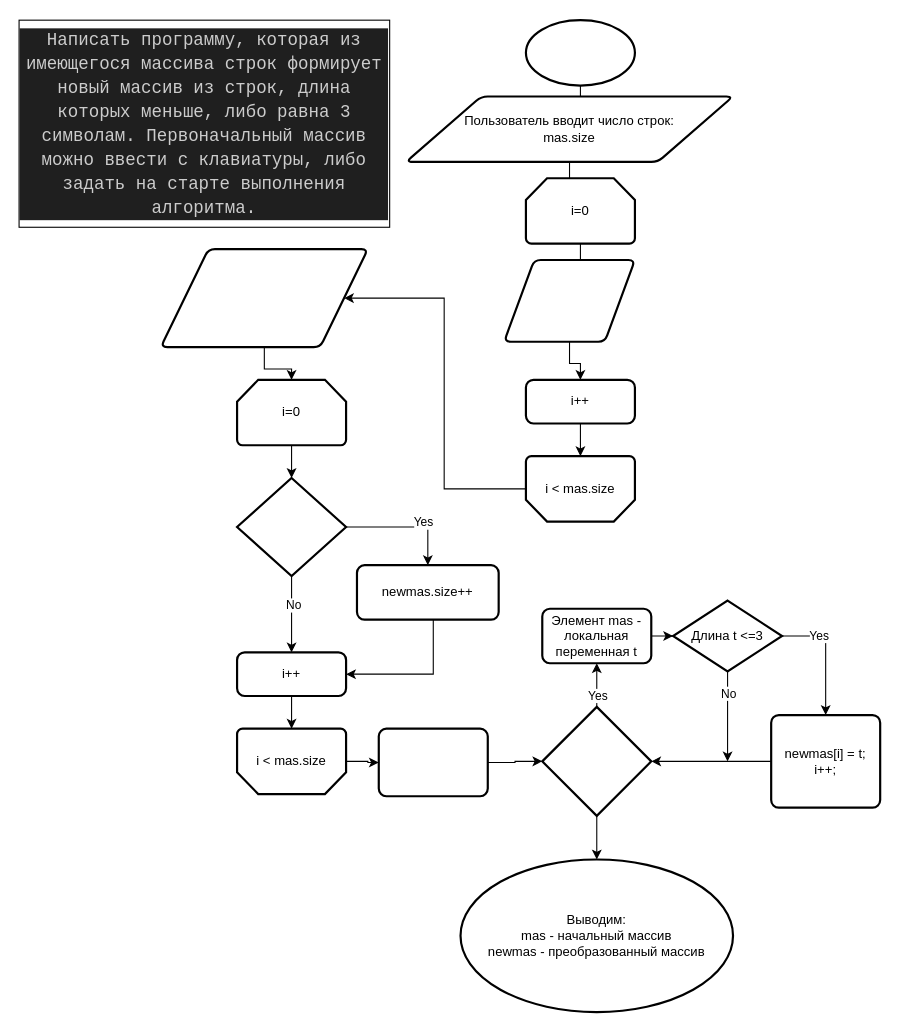
This 900x1031 diagram has some shape labels left out. Here are the shapes that lost their labels. From the top down, the centre of each, then its label:
the point at 579,52: Начало
the point at 263,297: Задаём начальный размер нового массива: newmas.size=0
the point at 568,300: Заполняем массив строками: mas[i] = text
the point at 291,526: mas[i]<=3
the point at 432,762: Определяем счётчик: i = 0
the point at 596,760: Есть ли элементы в mas?
